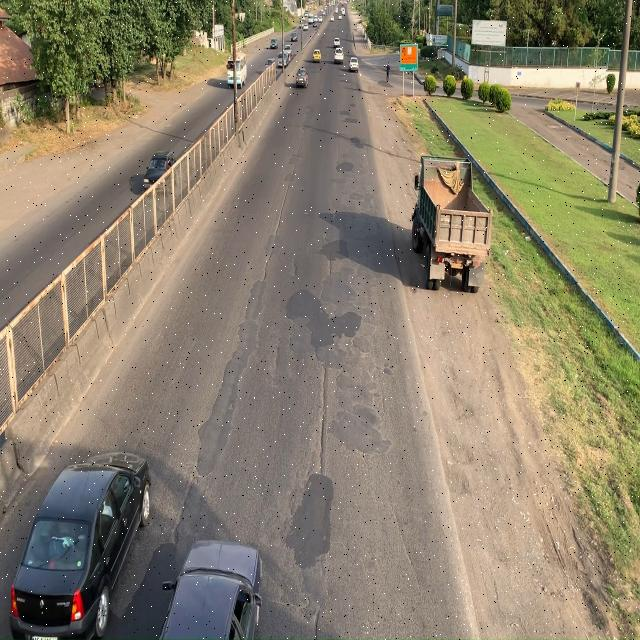Truck: (411, 150, 494, 294)
cars: (9, 449, 149, 640), (158, 535, 262, 640)
